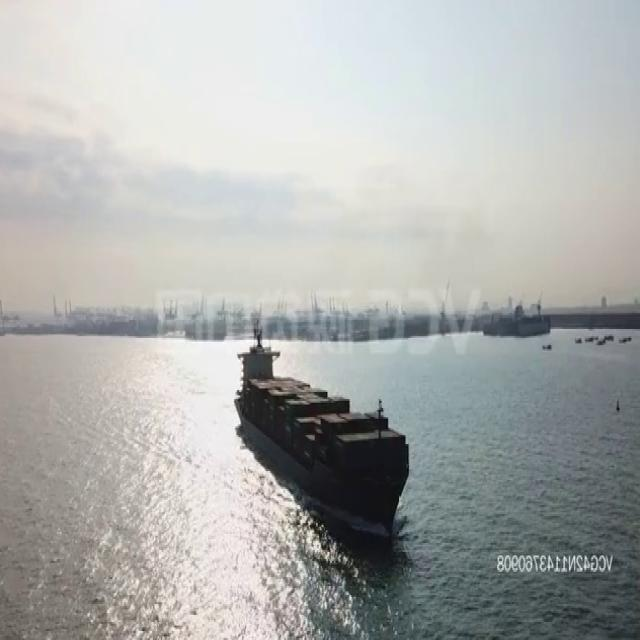cargoship: (232, 339, 414, 539)
